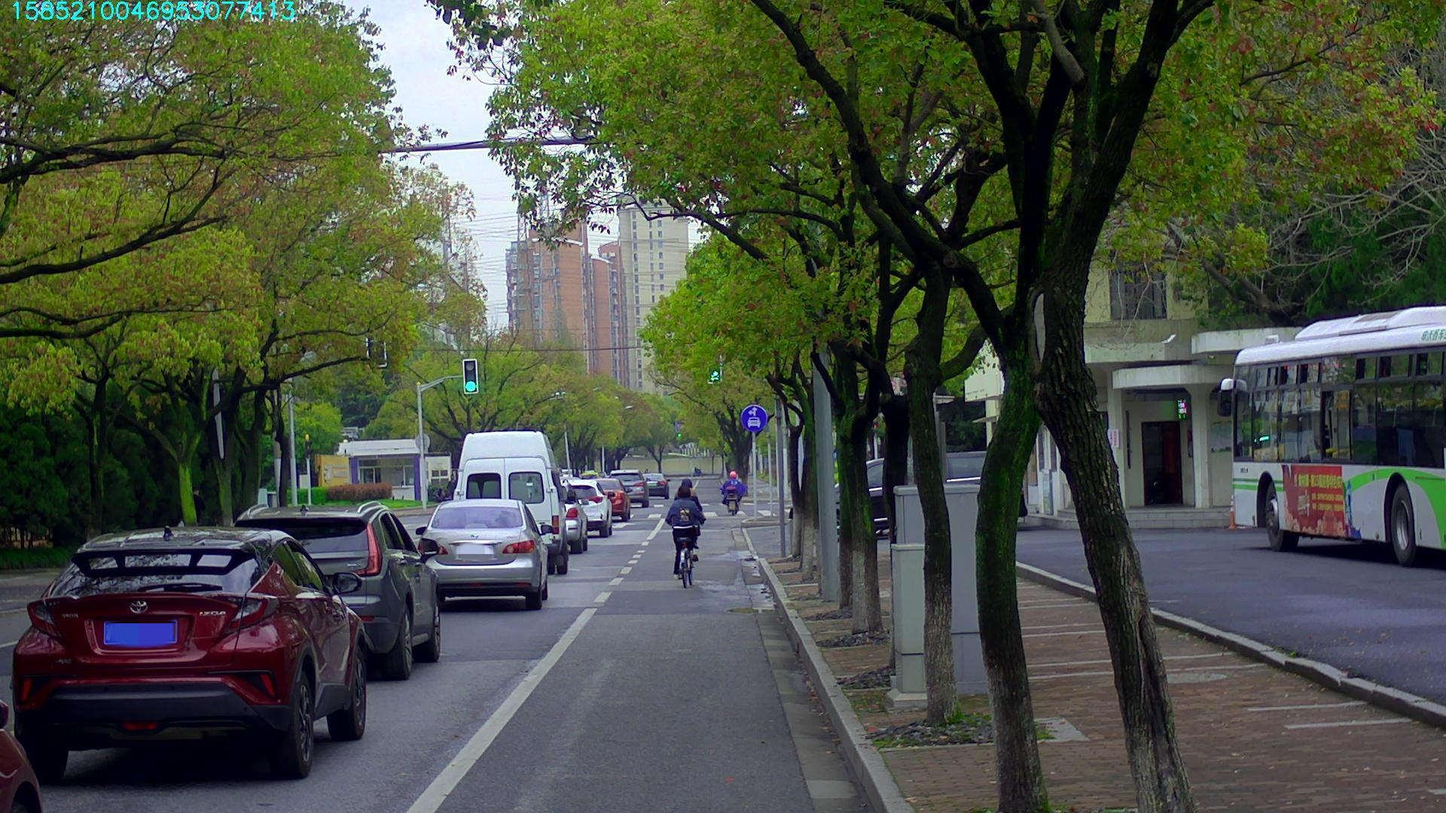green: (463, 359, 477, 392), (707, 360, 720, 382)
